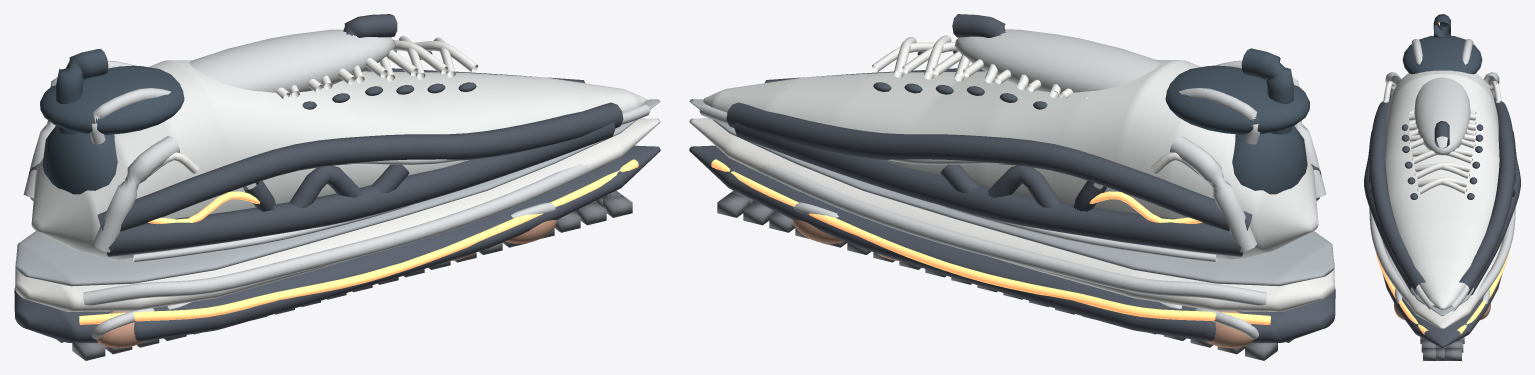
File: aerodyne-one.glb
3 views of the same model, side by side, from view 1: azimuth 30°, elevation 25°; view 2: azimuth 150°, elevation 25°; view 3: azimuth 270°, elevation 25° (orthographic). The views are drawn at different scales.
Visible parts, largest first — view 1: Upper_Knit, Cage_Carbon, Cage_Metal, Outsole_Rubber, Liner, Midsole_Foam, Midsole_Silver, Tongue, Accent_Emissive, Laces, Tread, Air_Unit; view 2: Upper_Knit, Cage_Carbon, Cage_Metal, Outsole_Rubber, Liner, Midsole_Foam, Midsole_Silver, Tongue, Accent_Emissive, Laces, Tread, Air_Unit; view 3: Upper_Knit, Cage_Carbon, Tongue, Cage_Metal, Liner, Laces, Outsole_Rubber, Midsole_Foam, Tread, Accent_Emissive, Detail_White, Midsole_Silver.
Part boxes in pixels (x1,y1,x2,y2): Upper_Knit: (31,60,646,259); Cage_Carbon: (28,14,623,256); Cage_Metal: (23,61,650,339); Outsole_Rubber: (14,145,660,342); Liner: (40,48,184,194); Midsole_Foam: (15,118,660,311); Midsole_Silver: (15,99,660,286); Tongue: (189,29,394,92); Accent_Emissive: (79,159,638,324); Laces: (264,35,478,98); Tread: (56,190,632,360); Air_Unit: (97,219,556,348); Upper_Knit: (703,60,1318,259); Cage_Carbon: (726,14,1321,256); Cage_Metal: (699,60,1326,339); Outsole_Rubber: (689,145,1335,342); Liner: (1165,48,1309,194); Midsole_Foam: (689,118,1334,311); Midsole_Silver: (689,99,1334,286); Tongue: (954,29,1160,92); Accent_Emissive: (711,159,1270,324); Laces: (872,35,1087,98); Tread: (717,190,1293,360); Air_Unit: (792,219,1252,348); Upper_Knit: (1385,70,1499,310); Cage_Carbon: (1364,97,1520,295); Tongue: (1414,77,1470,155); Cage_Metal: (1369,39,1515,311); Liner: (1402,14,1482,74); Laces: (1408,104,1476,194); Outsole_Rubber: (1382,273,1502,347); Midsole_Foam: (1383,242,1501,329); Tread: (1420,337,1464,360); Accent_Emissive: (1375,22,1509,334); Detail_White: (1383,81,1501,102); Midsole_Silver: (1411,287,1473,315).
Size of the model in its own units: 4.6 by 1.92 by 1.53.
